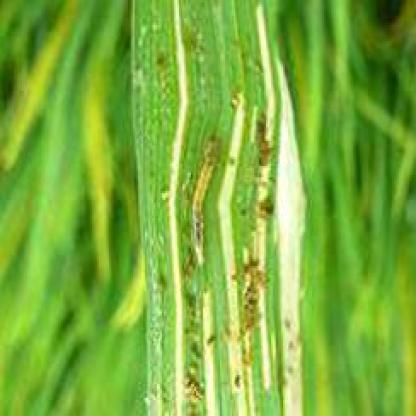leaf-folder: (177, 121, 230, 276)
